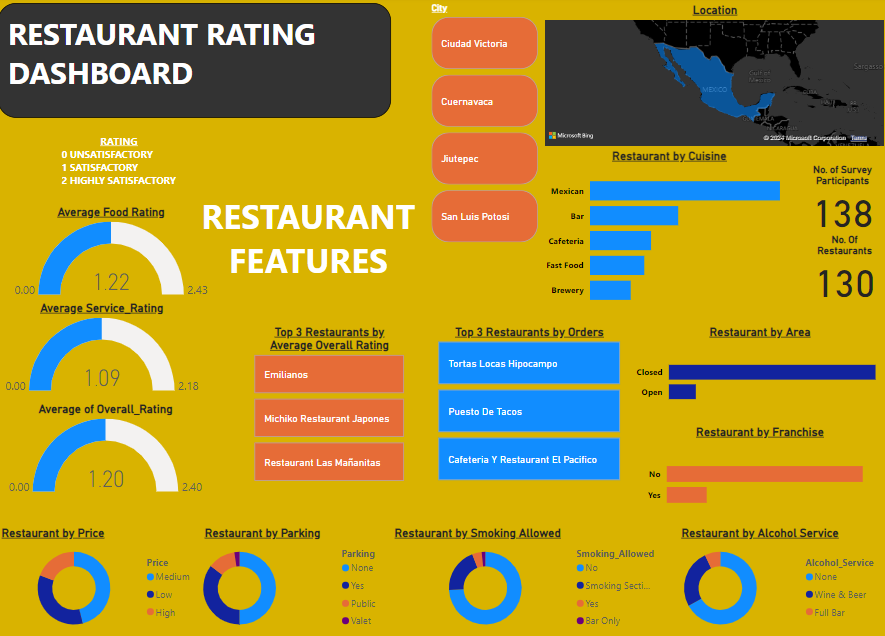

The page's visual inventory and layout, read from the dashboard file:
{"tool":"powerbi","page":{"name":"Page 1","canvas":[1280,920],"ordinal":0},"visuals":[{"type":"donutChart","title":"Restaurant by Smoking Allowed","fields":{"Y":["ratings.Restaurant_ID"],"Category":["restaurants.Smoking_Allowed"]},"box":[564.9,760.4,398.2,159.6],"z":0},{"type":"donutChart","title":"Restaurant by Price","fields":{"Category":["restaurants.Price"],"Y":["restaurants.Restaurant_ID"]},"box":[0,760.4,290.4,159.6],"z":1000},{"type":"barChart","title":"Restaurant by Franchise","fields":{"Category":["restaurants.Franchise"],"Y":["restaurants.Restaurant_ID"]},"box":[911.4,615.2,368,145.2],"z":2000},{"type":"barChart","title":"Restaurant by Area","fields":{"Category":["restaurants.Area"],"Y":["restaurants.Restaurant_ID"]},"box":[911.4,471.5,368,138],"z":3000},{"type":"textbox","box":[86.2,191.2,175.4,176.8],"z":4000},{"type":"advancedSlicerVisual","fields":{"Values":["consumers.City"]},"box":[618,9.3,163.8,350.3],"z":5000},{"type":"textbox","box":[264.5,276,363.7,161],"z":6000},{"type":"filledMap","title":"Location","fields":{"Category":["restaurants.Country","restaurants.Name","restaurants.Restaurant_ID"]},"box":[782,8.6,497.4,209.9],"z":7000},{"type":"gauge","title":"Average Food Rating","fields":{"Y":["ratings.Food_Rating"]},"box":[0,298.4,325,138.5],"z":8000},{"type":"gauge","title":"Average Service_Rating","fields":{"Y":["ratings.Service_Rating"]},"box":[0,436.9,298.4,138.5],"z":9000},{"type":"gauge","title":"Average of Overall_Rating","fields":{"Y":["ratings.Overall_Rating"]},"box":[0,582.1,309,138.5],"z":10000},{"type":"donutChart","title":"Restaurant by Alcohol Service","fields":{"Category":["restaurants.Alcohol_Service"],"Y":["restaurants.Restaurant_ID"]},"box":[911.4,760.4,368,159.6],"z":11000},{"type":"donutChart","title":"Restaurant by Parking","fields":{"Category":["restaurants.Parking"],"Y":["restaurants.Restaurant_ID"]},"box":[195.5,760.4,369.4,159.6],"z":12000},{"type":"advancedSlicerVisual","title":"Top 3 Restaurants by Average Overall Rating","fields":{"Values":["restaurants.Name"]},"box":[363.7,471.5,225.7,230],"z":13000},{"type":"advancedSlicerVisual","title":"Top 3 Restaurants by Orders","fields":{"Values":["restaurants.Name"]},"box":[628.2,471.5,271.7,230],"z":14000},{"type":"card","title":"No. of Survey Participants","fields":{"Values":["ratings.Consumer_ID"]},"box":[1148.6,240.1,130.8,97.8],"z":15000},{"type":"card","title":"No. Of Restaurants","fields":{"Values":["restaurants.Restaurant_ID"]},"box":[1154.3,340.7,125.1,96.3],"z":16000},{"type":"barChart","title":"Restaurant by Cuisine","fields":{"Category":["restaurant_cuisines.Cuisine"],"Y":["restaurant_cuisines.Restaurant_ID"]},"box":[782,218.5,366.6,237.2],"z":17000},{"type":"textbox","box":[0,8.6,564.9,165.3],"z":18000}]}

Visuals, with their boxes in screenshot pixels (x1, y1, x2, y2), scaled from the page's 1280x920 canvas onto the 885x636 screenshot:
"Restaurant by Smoking Allowed" donutChart: x1=391, y1=526, x2=666, y2=635
"Restaurant by Price" donutChart: x1=0, y1=526, x2=201, y2=635
"Restaurant by Franchise" barChart: x1=630, y1=425, x2=884, y2=526
"Restaurant by Area" barChart: x1=630, y1=326, x2=884, y2=421
textbox: x1=60, y1=132, x2=181, y2=254
advancedSlicerVisual - consumers.City: x1=427, y1=6, x2=541, y2=249
textbox: x1=183, y1=191, x2=434, y2=302
"Location" filledMap: x1=541, y1=6, x2=884, y2=151
"Average Food Rating" gauge: x1=0, y1=206, x2=225, y2=302
"Average Service_Rating" gauge: x1=0, y1=302, x2=206, y2=398
"Average of Overall_Rating" gauge: x1=0, y1=402, x2=214, y2=498
"Restaurant by Alcohol Service" donutChart: x1=630, y1=526, x2=884, y2=635
"Restaurant by Parking" donutChart: x1=135, y1=526, x2=391, y2=635
"Top 3 Restaurants by Average Overall Rating" advancedSlicerVisual: x1=251, y1=326, x2=408, y2=485
"Top 3 Restaurants by Orders" advancedSlicerVisual: x1=434, y1=326, x2=622, y2=485
"No. of Survey Participants" card: x1=794, y1=166, x2=884, y2=234
"No. Of Restaurants" card: x1=798, y1=236, x2=884, y2=302
"Restaurant by Cuisine" barChart: x1=541, y1=151, x2=794, y2=315
textbox: x1=0, y1=6, x2=391, y2=120
